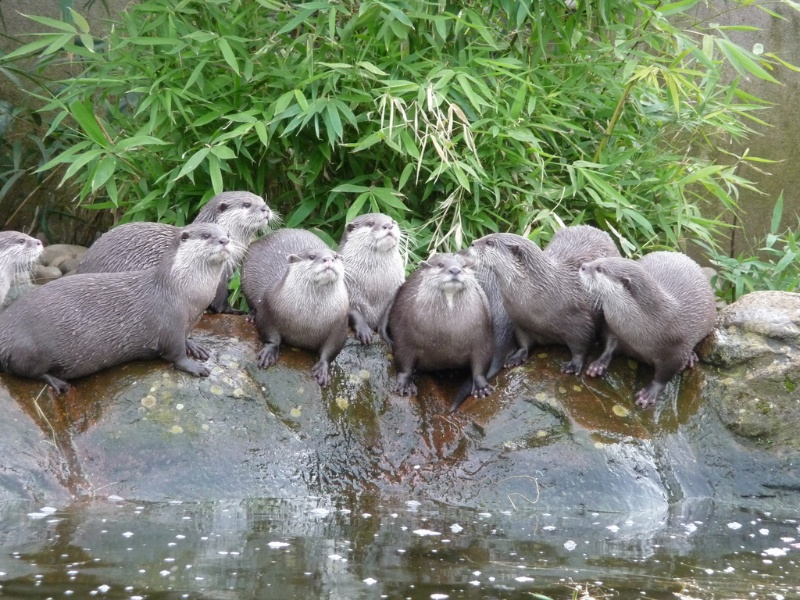minkish: (1, 220, 231, 398), (64, 187, 280, 323), (469, 222, 615, 380), (579, 248, 719, 412), (240, 231, 351, 389), (396, 256, 494, 400), (331, 209, 409, 348), (1, 226, 48, 307)
